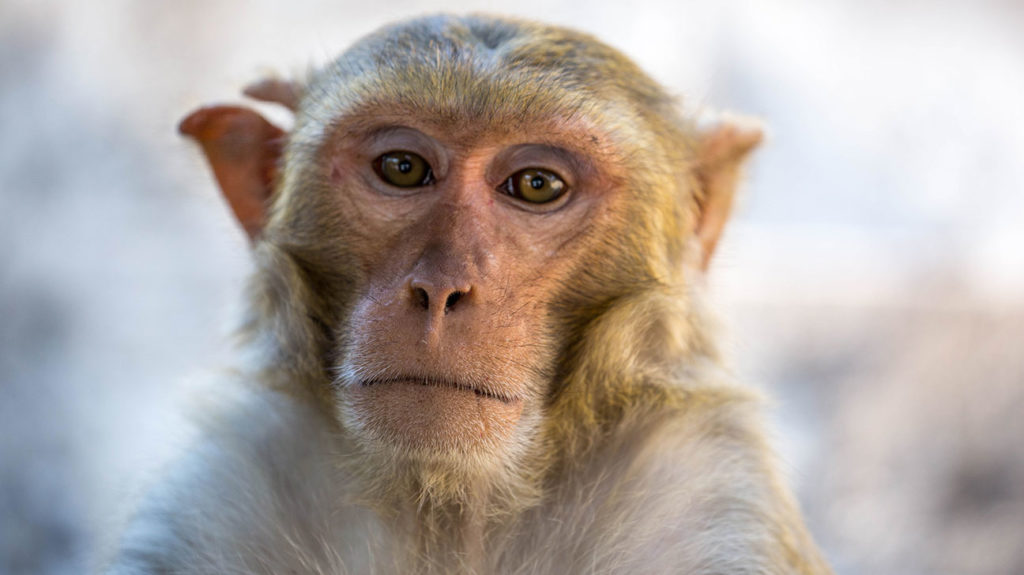monkey: (125, 4, 845, 575)
